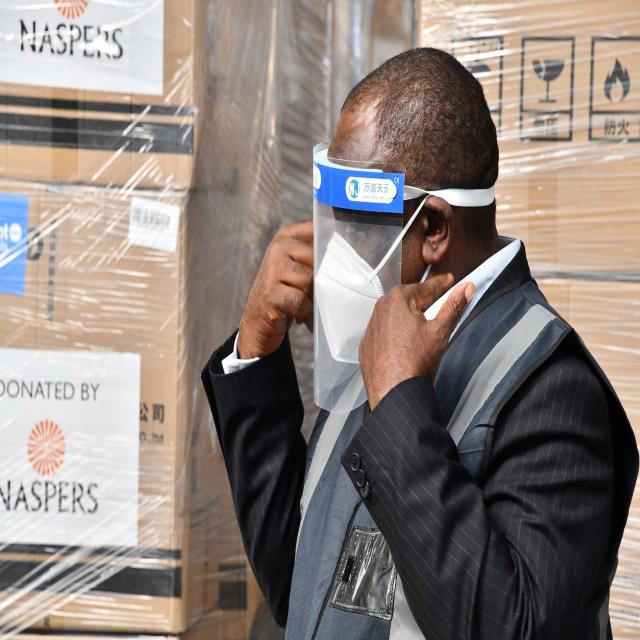Mask: (313, 231, 386, 359)
